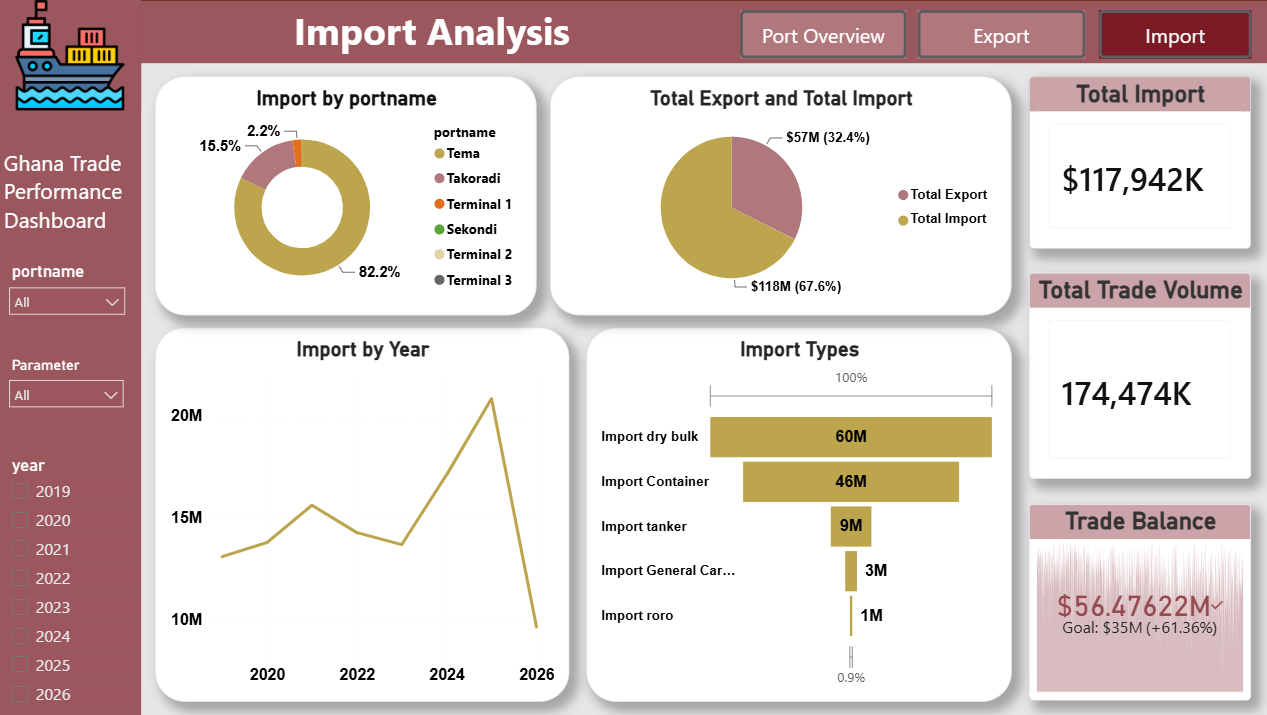

This screenshot's page, from the dashboard's own definition file:
{"tool":"powerbi","page":{"name":"Import ","canvas":[1280,720],"ordinal":2},"visuals":[{"type":"shape","box":[0,0,1280,720],"z":0},{"type":"shape","box":[149.3,0,1130.8,63.4],"z":1000},{"type":"shape","box":[8.8,0,142.5,718.8],"z":2000},{"type":"cardVisual","title":"Total Trade Volume","fields":{"Data":["All The Measures.Total Trade Volumn"]},"box":[1038.7,272.4,222.7,206.5],"z":3000},{"type":"kpi","title":"Trade Balance","fields":{"Goal":["Parameter 3.Target Trade Balance"],"Indicator":["All The Measures.Trade Balance"],"TrendLine":["ghana_import_data.date"]},"box":[1038.7,503.8,222.7,196.5],"z":4000},{"type":"funnel","title":"Import Types","fields":{"Y":["ghana_import_data.Import dry bulk","ghana_import_data.Import Container","ghana_import_data.Import tanker","ghana_import_data.Import General Cargo","ghana_import_data.Import roro"]},"box":[595.9,327.2,425.4,374.4],"z":5000},{"type":"lineChart","title":"Import by Year","fields":{"Category":["ghana_import_data.date.Variation.Date Hierarchy.Year","ghana_import_data.date.Variation.Date Hierarchy.Quarter","ghana_import_data.date.Variation.Date Hierarchy.Month","ghana_import_data.date.Variation.Date Hierarchy.Day"],"Y":["Sum(ghana_import_data.import)"]},"box":[165.4,327.2,414.2,374.4],"z":6000},{"type":"slicer","fields":{"Values":["port_data.portname"]},"box":[8.8,256.2,136.2,76.2],"z":7000},{"type":"slicer","fields":{"Values":["ghana_port_activity.year"]},"box":[8.7,450.3,143.1,269.9],"z":8000},{"type":"slicer","fields":{"Values":["Parameter 3.Parameter"]},"box":[8.8,351.2,135,76.2],"z":9000},{"type":"textbox","box":[151.2,0,581.2,63.8],"z":10000},{"type":"cardVisual","title":"Total Import","fields":{"Data":["All The Measures.Total Import"]},"box":[1038.7,75.9,222.7,172.9],"z":11000},{"type":"actionButton","box":[750.1,10,166.7,48.5],"z":12000},{"type":"actionButton","box":[928,10,167.9,48.5],"z":13000},{"type":"actionButton","box":[1108.4,10,153,48.5],"z":14000},{"type":"donutChart","title":"Import by portname","fields":{"Category":["port_data.portname"],"Y":["Sum(ghana_import_data.import)"]},"box":[165.4,75.9,381.9,238.8],"z":15000},{"type":"textbox","box":[8.8,142.5,140,106.2],"z":16000},{"type":"pieChart","fields":{"Y":["All The Measures.Total Export","All The Measures.Total Import"]},"box":[559.8,75.9,461.5,238.8],"z":17000},{"type":"image","box":[8.8,0,142.5,110],"z":18000}]}

Visuals, with their boxes in screenshot pixels (x1, y1, x2, y2), scaled from the page's 1280x720 canvas onto the 1267x715 screenshot:
shape: <region>0, 0, 1266, 714</region>
shape: <region>148, 0, 1266, 63</region>
shape: <region>9, 0, 150, 714</region>
"Total Trade Volume" cardVisual: <region>1028, 271, 1249, 476</region>
"Trade Balance" kpi: <region>1028, 500, 1249, 695</region>
"Import Types" funnel: <region>590, 325, 1011, 697</region>
"Import by Year" lineChart: <region>164, 325, 574, 697</region>
slicer - port_data.portname: <region>9, 254, 144, 330</region>
slicer - ghana_port_activity.year: <region>9, 447, 150, 714</region>
slicer - Parameter 3.Parameter: <region>9, 349, 142, 424</region>
textbox: <region>150, 0, 725, 63</region>
"Total Import" cardVisual: <region>1028, 75, 1249, 247</region>
actionButton: <region>742, 10, 907, 58</region>
actionButton: <region>919, 10, 1085, 58</region>
actionButton: <region>1097, 10, 1249, 58</region>
"Import by portname" donutChart: <region>164, 75, 542, 313</region>
textbox: <region>9, 142, 147, 247</region>
pieChart - All The Measures.Total Export x All The Measures.Total Import: <region>554, 75, 1011, 313</region>
image: <region>9, 0, 150, 109</region>
